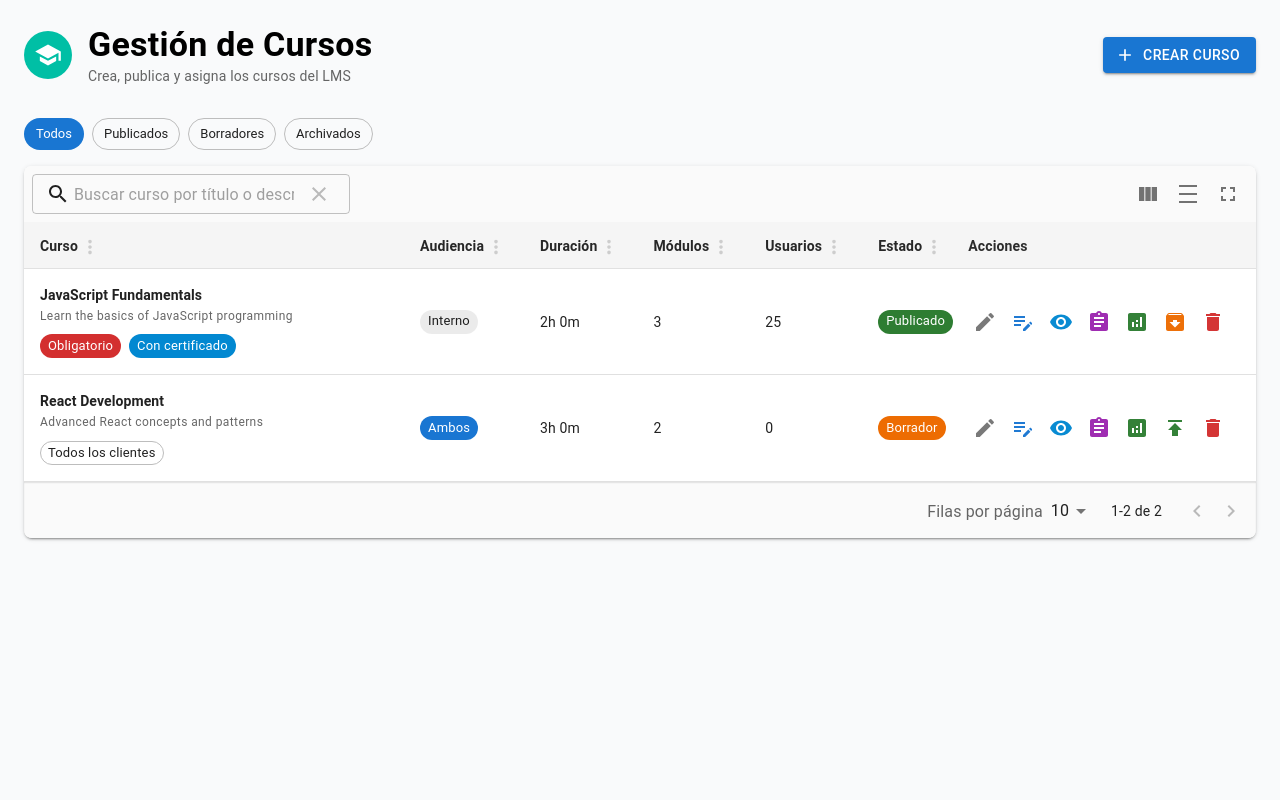
Test case: LmsCourseManagement › opens edit dialog with course data
The image size is (1280, 800).
Expected: the heading "JavaScript Fundamentals" is shown, [40,287,202,303]
// Find and click edit button for first course
Click the button named "Editar curso" in the row of "Interno". click: (985, 322)
box: [968,304,1002,338]
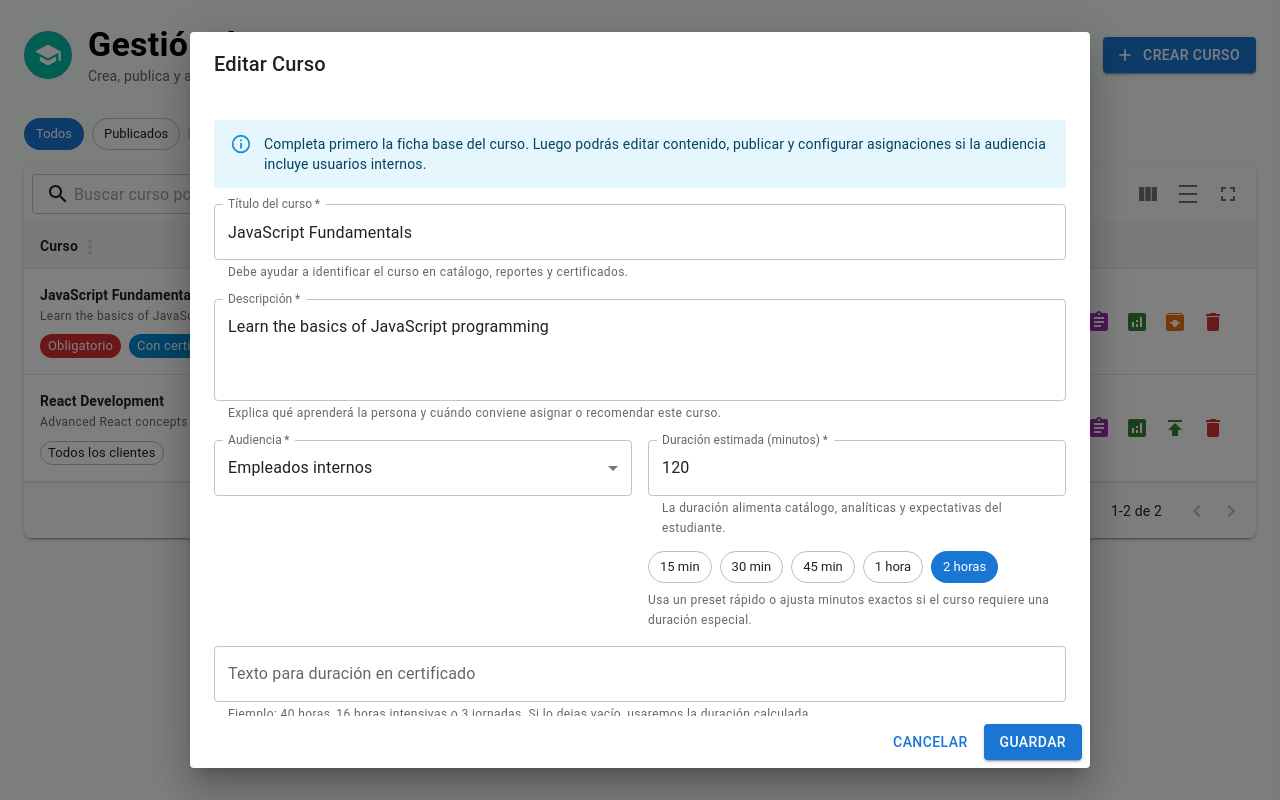
Expected: the heading "Editar Curso" is shown, [214,52,326,76]
Expected: the field showing "JavaScript Fundamentals" is shown, [214,204,1066,260]
Expected: the text box showing "Learn the basics of JavaScript programming" is shown, [228,315,1052,384]
